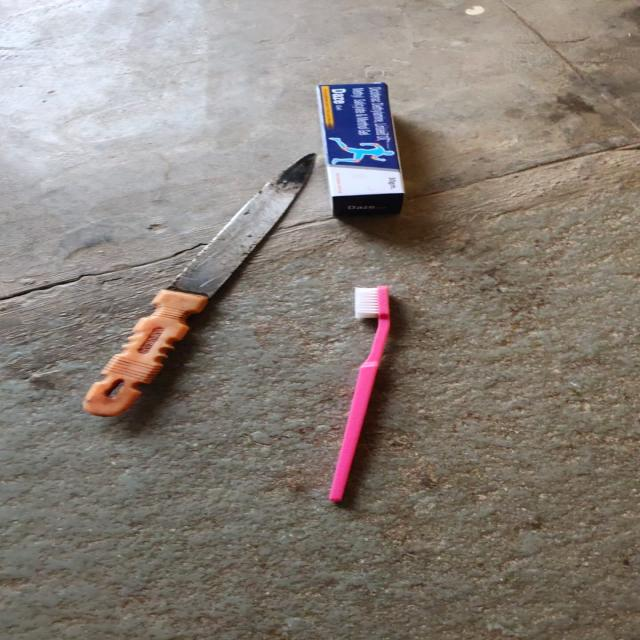dry: (60, 159, 305, 406), (303, 282, 433, 516), (309, 79, 449, 232)
